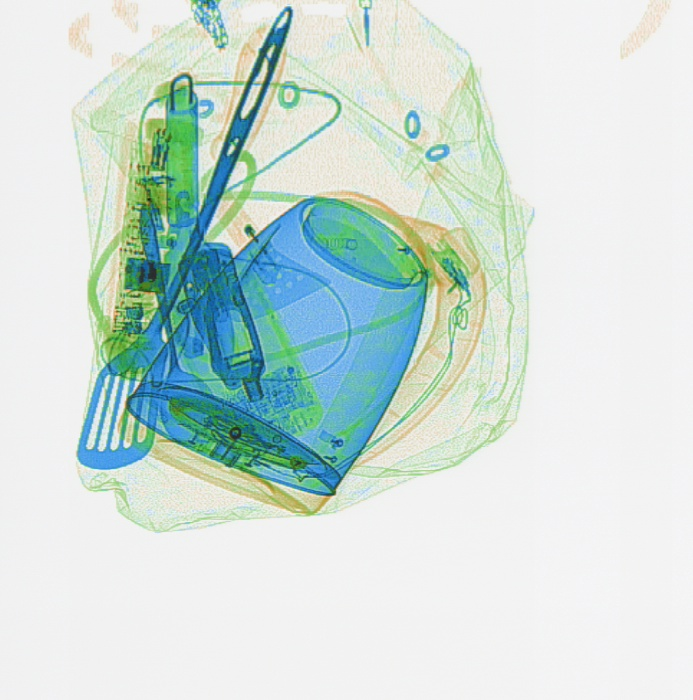knife: (147, 70, 216, 383), (176, 231, 272, 403)
lighter: (195, 162, 287, 281)
